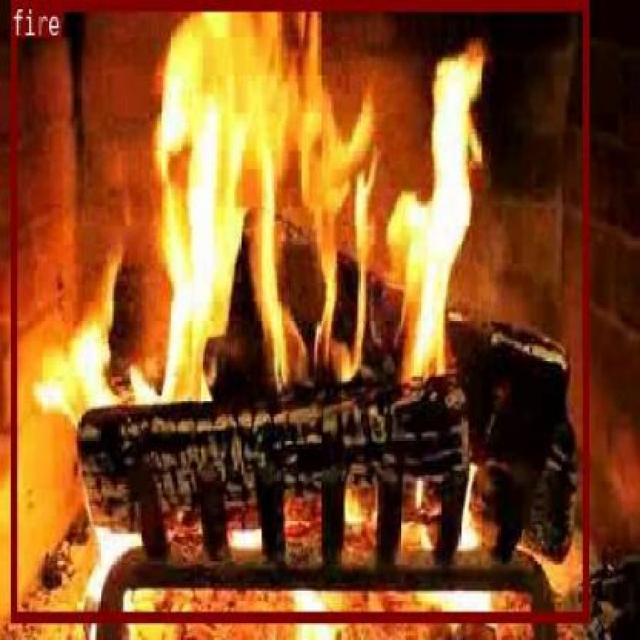Fire: (9, 0, 588, 622)
